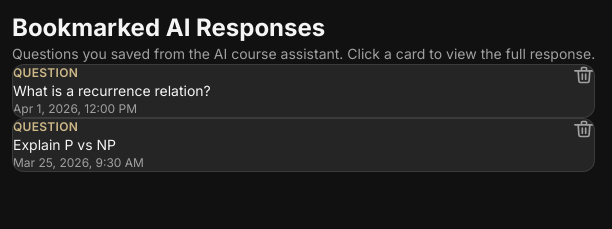
Test: BookmarkedResources › clicking a card expands it to show the full question and full answer
Step 1. Click the text "What is a recurrence relation?" → (112, 90), box [13,82,211,99]
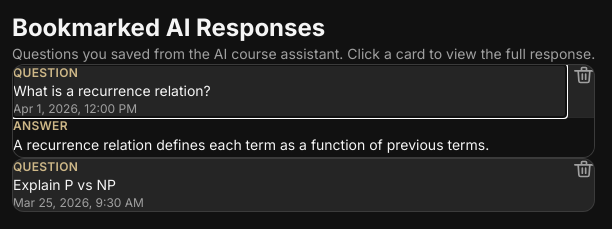
Check: the text "A recurrence relation defines each term as a function of previous terms." is shown, box [13,136,489,153]
